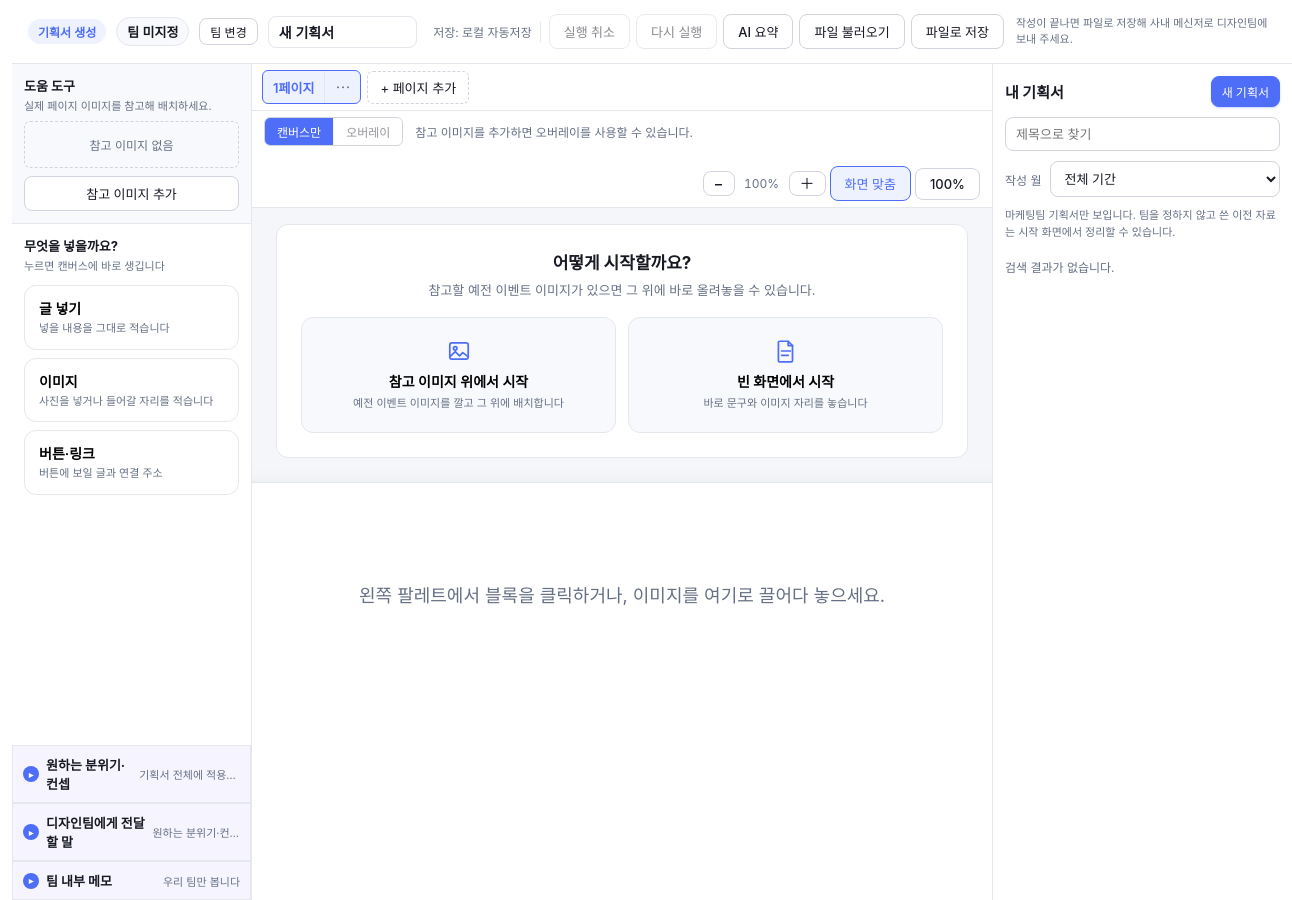
Scenario: §4 타 팀 작성기 표면 › keeps every part of writing a brief
expect the element named "기획 캔버스" is shown: met, box x1=252 y1=458 x2=992 y2=899
expect the button "파일 불러오기" is shown: met, box x1=800 y1=14 x2=905 y2=49
Click the button "▸ 원하는 분위기·컨셉 기획서 전체에 적용할 느낌": [132, 774] box x1=13 y1=746 x2=250 y2=802
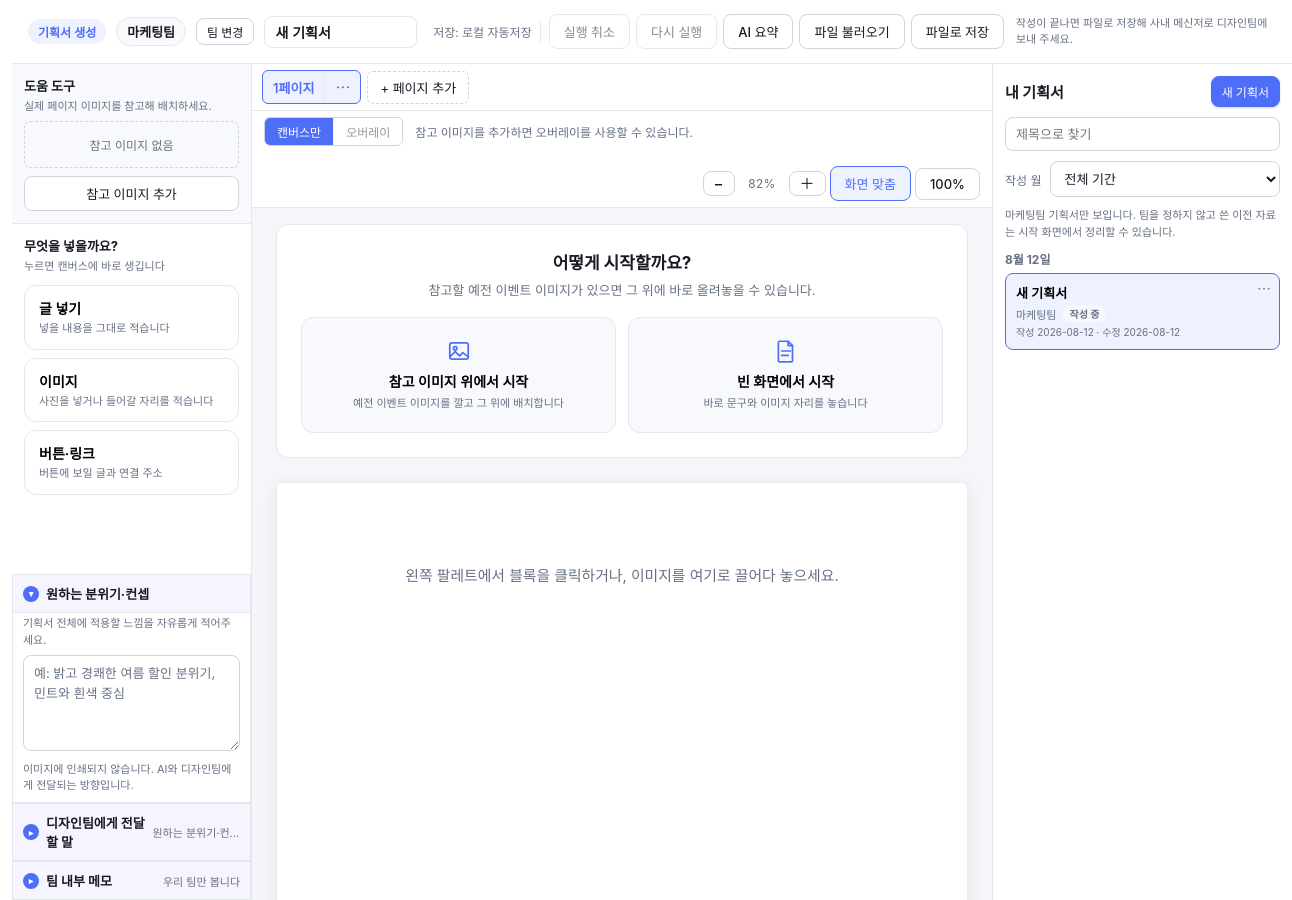
expect the button "AI 요약" is shown: met, box x1=723 y1=14 x2=794 y2=49
expect the text box named "원하는 분위기·컨셉" is shown: met, box x1=23 y1=655 x2=240 y2=751
